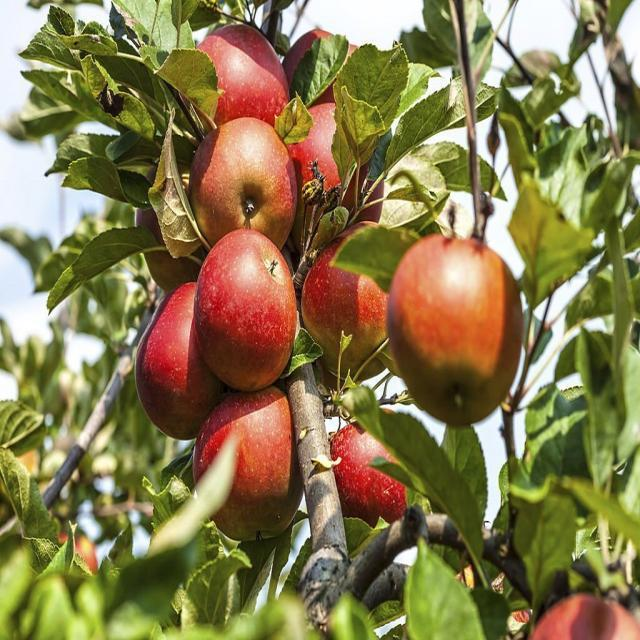Red Apple: (391, 246, 515, 399), (194, 393, 304, 536), (194, 238, 297, 387), (302, 229, 407, 365), (138, 292, 221, 428), (294, 98, 377, 229), (190, 26, 285, 134), (336, 408, 416, 526), (287, 27, 356, 102), (528, 593, 636, 640)
